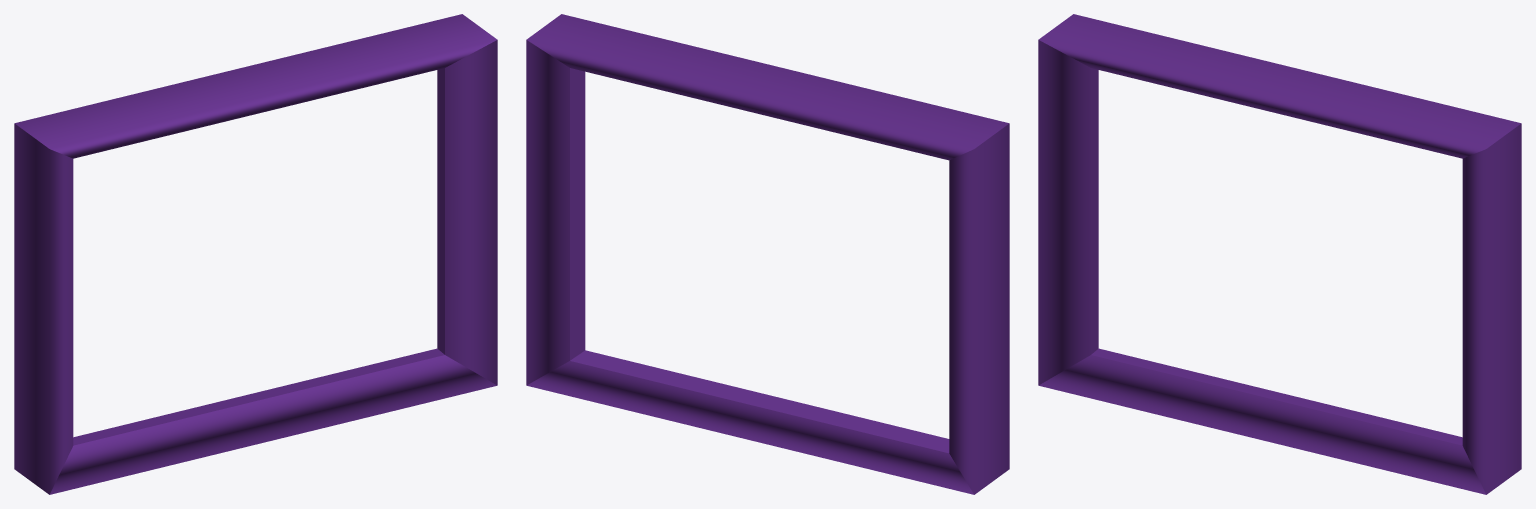
File: WindowFrameModel.fbx
3 views of the same model, side by side, from view 1: azimuth 30°, elevation 25°; view 2: azimuth 150°, elevation 25°; view 3: azimuth 330°, elevation 25° (orthographic).
Visible parts, largest first — view 1: pCube3; view 2: pCube3; view 3: pCube3.
Boxes of the visible parts, bbox=[...] form: pCube3: bbox=[14, 14, 497, 494]; pCube3: bbox=[526, 14, 1009, 494]; pCube3: bbox=[1038, 14, 1521, 494].
Bounding box in the file's own units: 6.66 × 4.92 × 0.9054.
